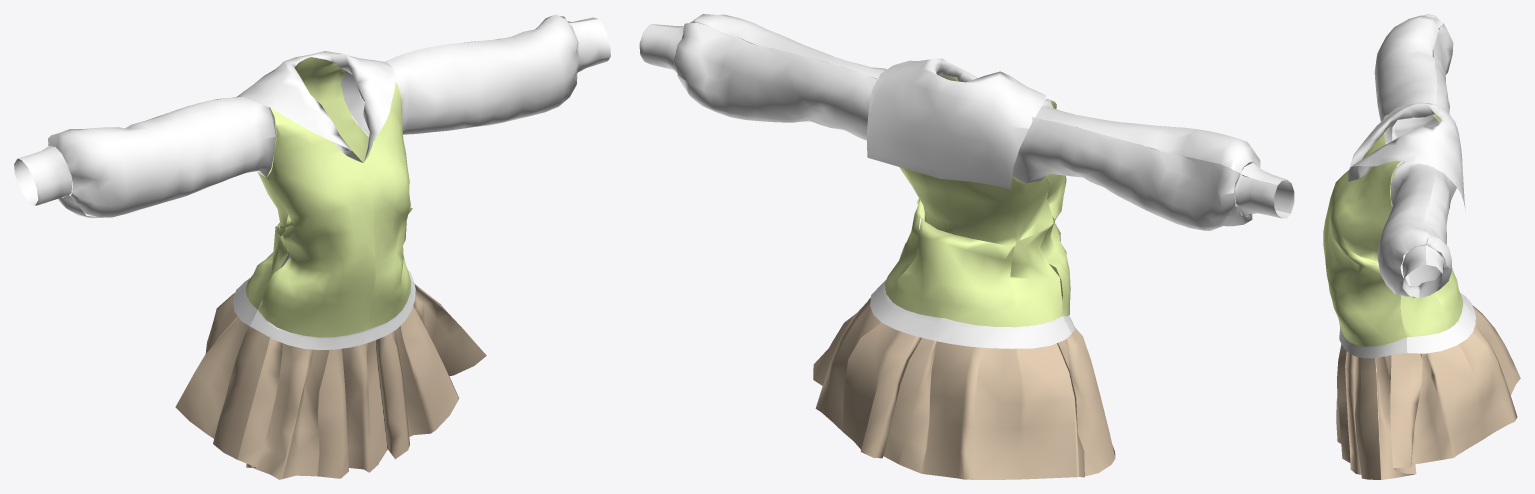
The model's file is natsu_swimsuit_from_mb_remeshed_low.fbx.
3 views of the same model, side by side, from view 1: azimuth 30°, elevation 25°; view 2: azimuth 150°, elevation 25°; view 3: azimuth 270°, elevation 25° (orthographic). The views are drawn at different scales.
Parts seen in each view (by area): view 1: natsu_swimsuit_from_mb_remeshed_low; view 2: natsu_swimsuit_from_mb_remeshed_low; view 3: natsu_swimsuit_from_mb_remeshed_low.
Part boxes in pixels (x1,y1,x2,y2): natsu_swimsuit_from_mb_remeshed_low: [14, 14, 610, 479]; natsu_swimsuit_from_mb_remeshed_low: [639, 14, 1294, 479]; natsu_swimsuit_from_mb_remeshed_low: [1323, 14, 1520, 479].
Size of the model in its own units: 0.9035 by 0.5707 by 0.2998.
